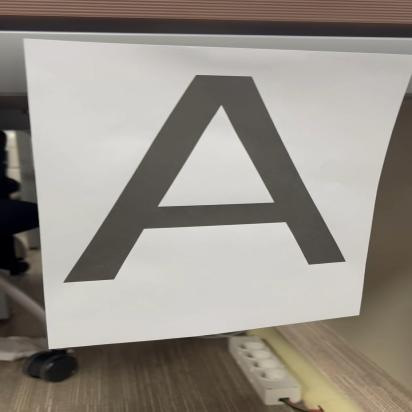seat: (57, 60, 358, 289)
